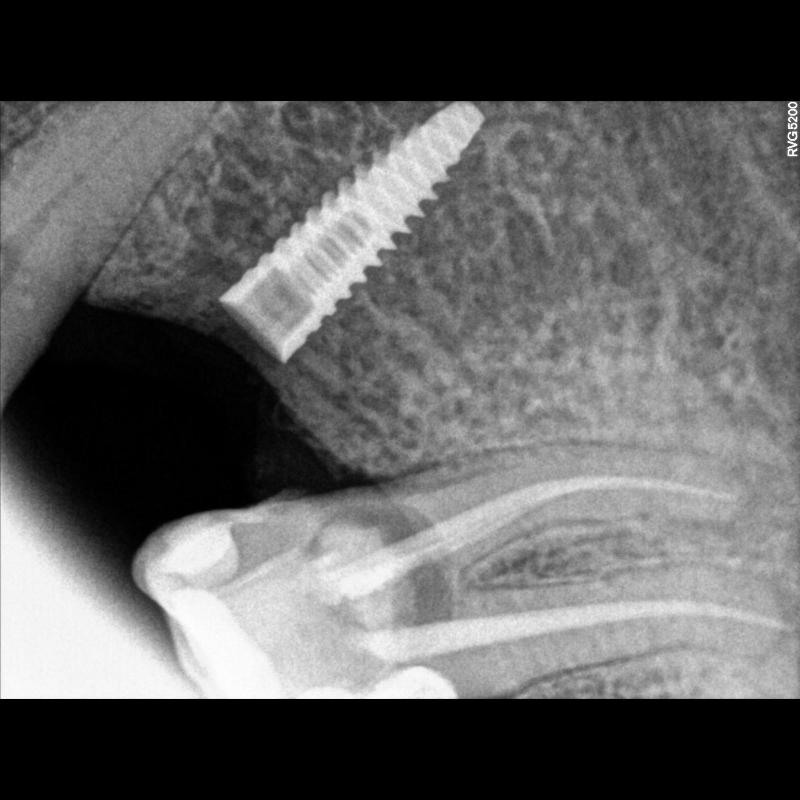MIS: (215, 103, 491, 372)
